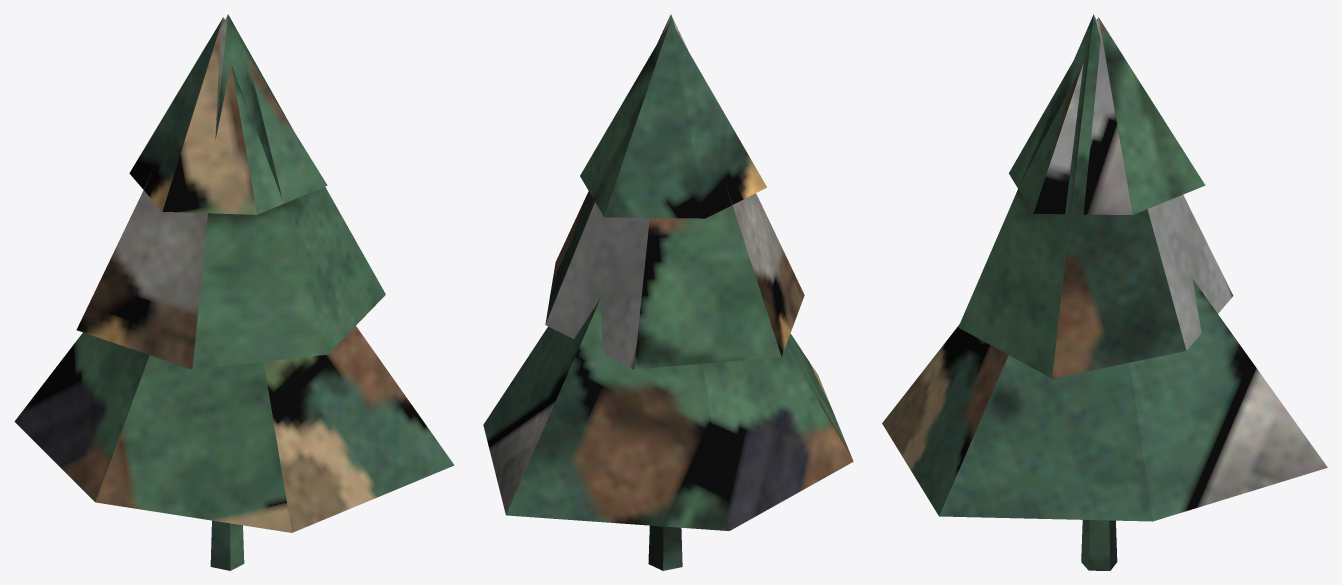
The model's file is SM_Pine_Small_A.fbx.
3 views of the same model, side by side, from view 1: azimuth 30°, elevation 25°; view 2: azimuth 150°, elevation 25°; view 3: azimuth 270°, elevation 25° (orthographic).
Visible parts, largest first — view 1: SM_Pine_Small_A; view 2: SM_Pine_Small_A; view 3: SM_Pine_Small_A.
Part boxes in pixels (x1,y1,x2,y2): SM_Pine_Small_A: (14,14,454,570); SM_Pine_Small_A: (483,14,853,570); SM_Pine_Small_A: (882,14,1327,570).
Size of the model in its own units: 273 by 454 by 333.
1 material, 1 textured.
